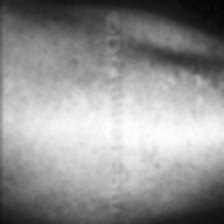Non-Cancerous Skin Condition: (0, 25, 100, 210), (129, 44, 219, 196)
